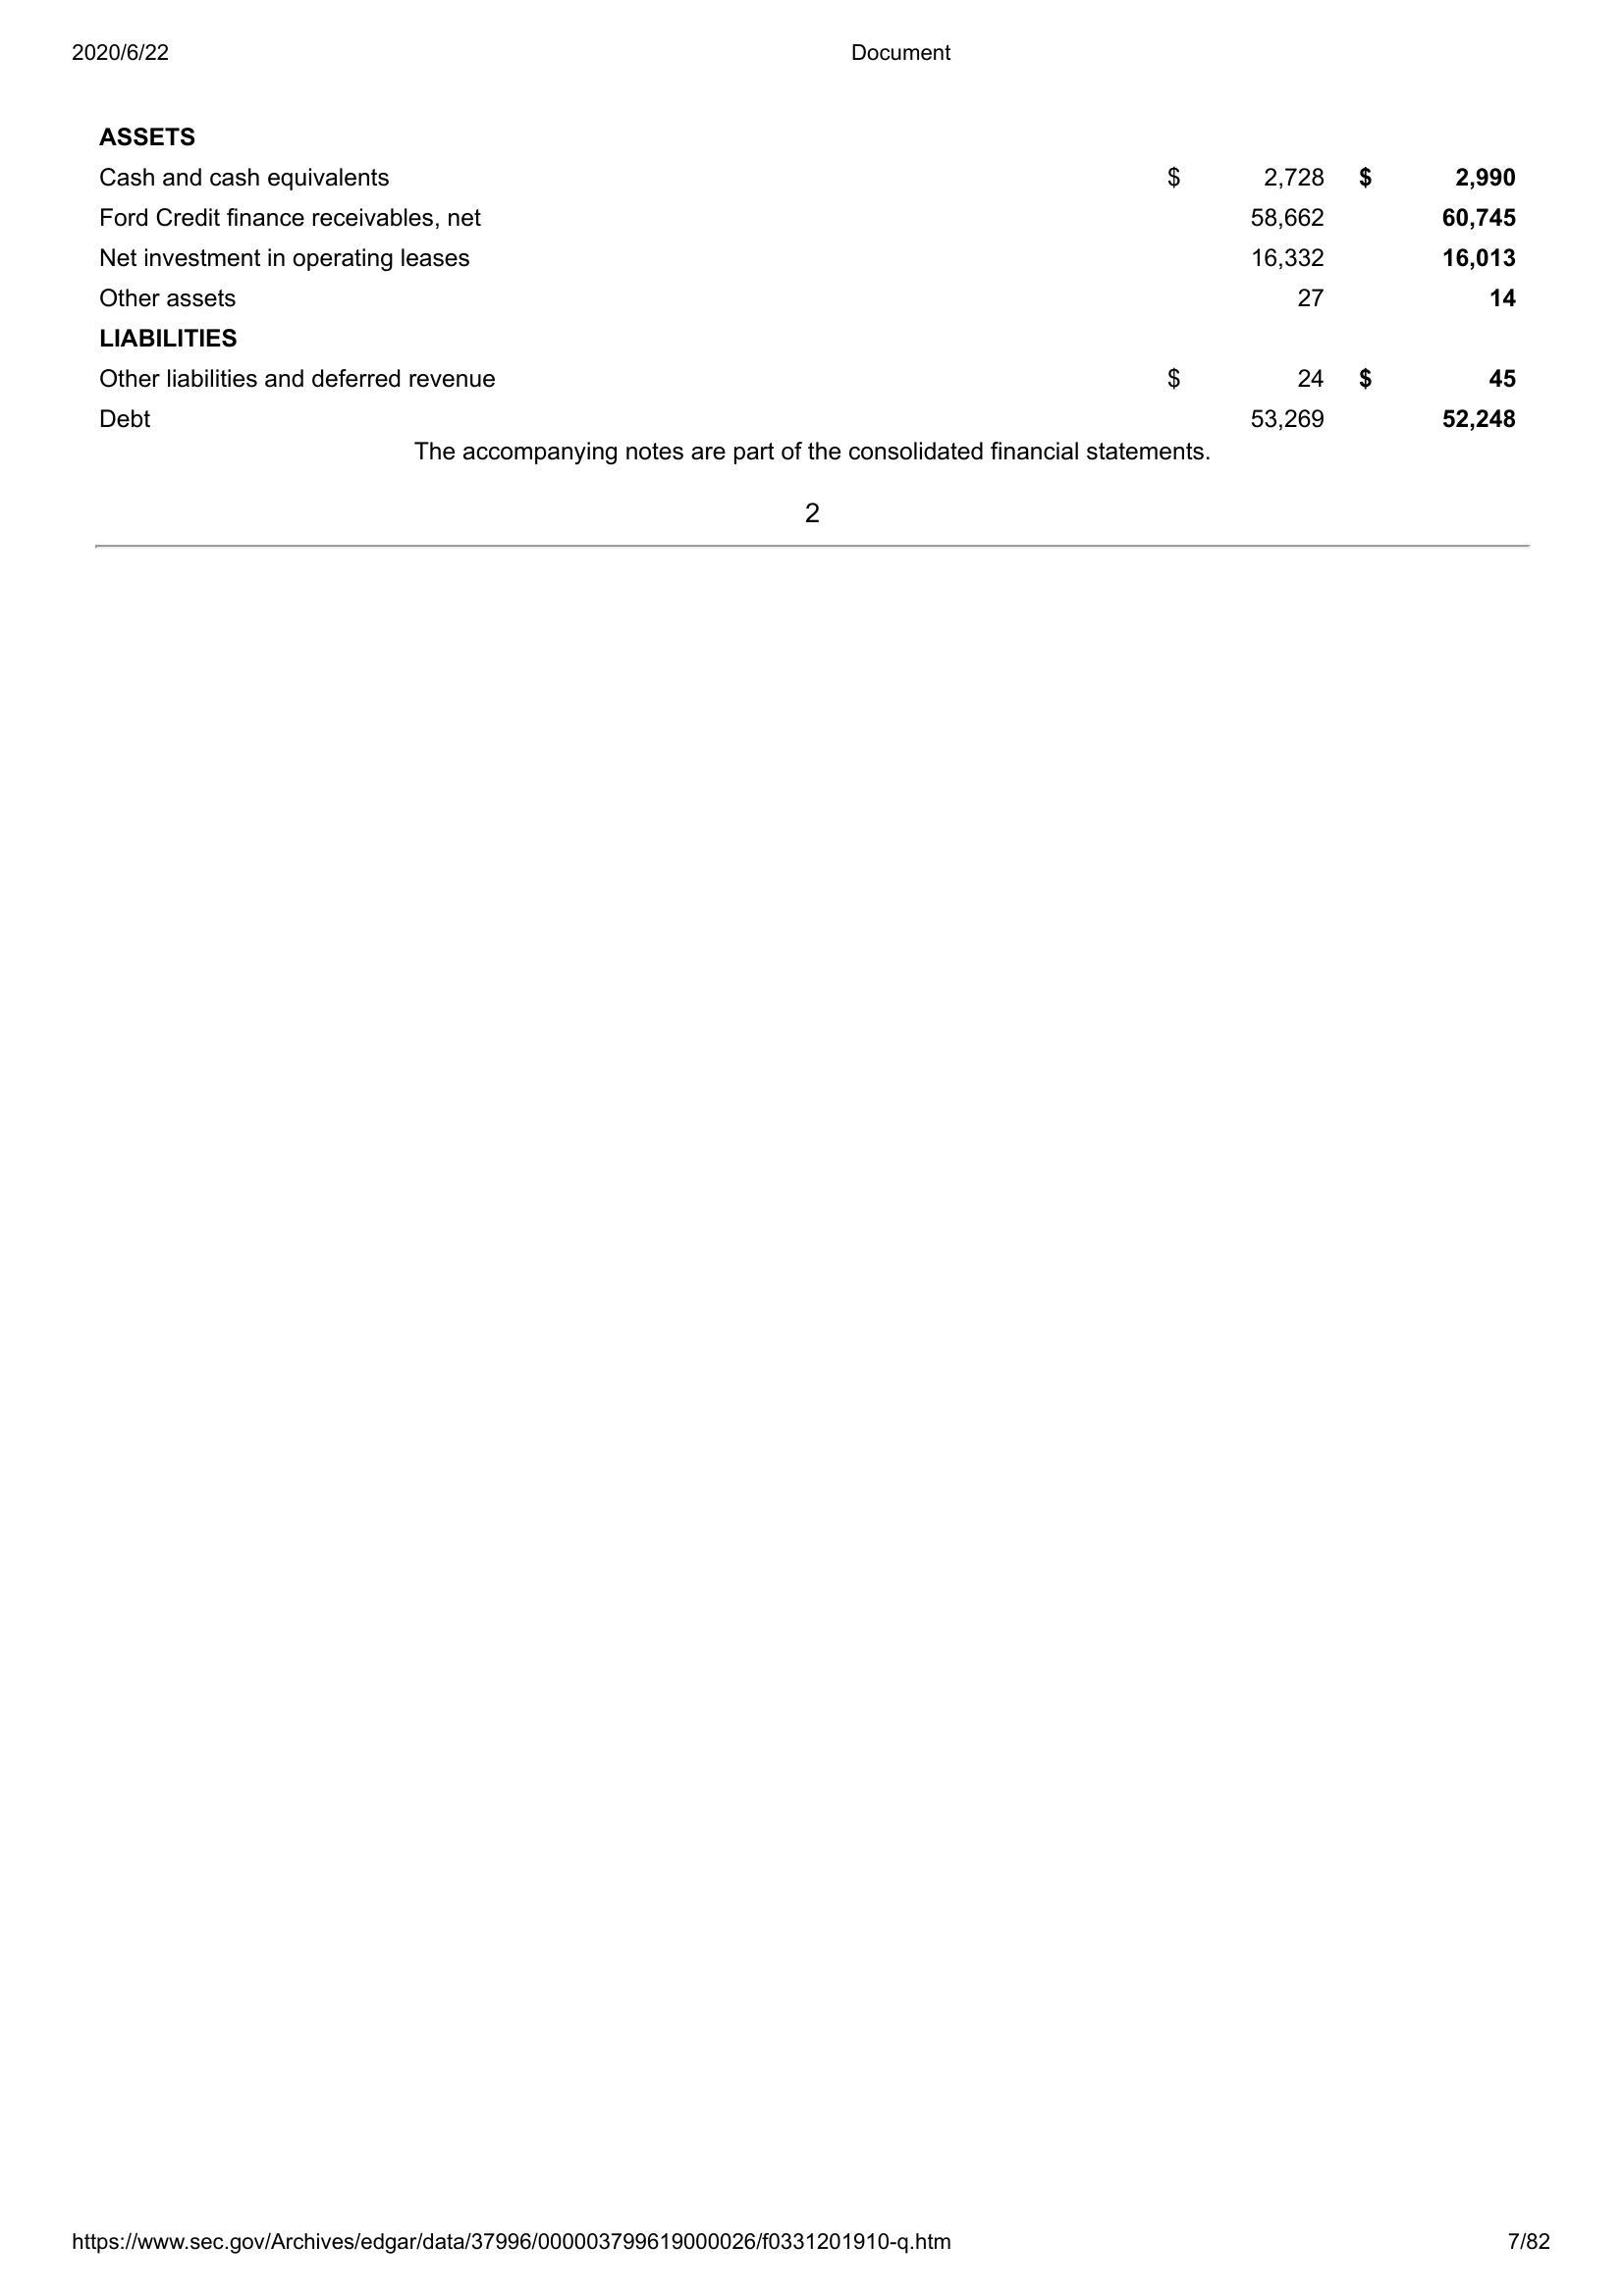table: (77, 111, 1526, 462)
